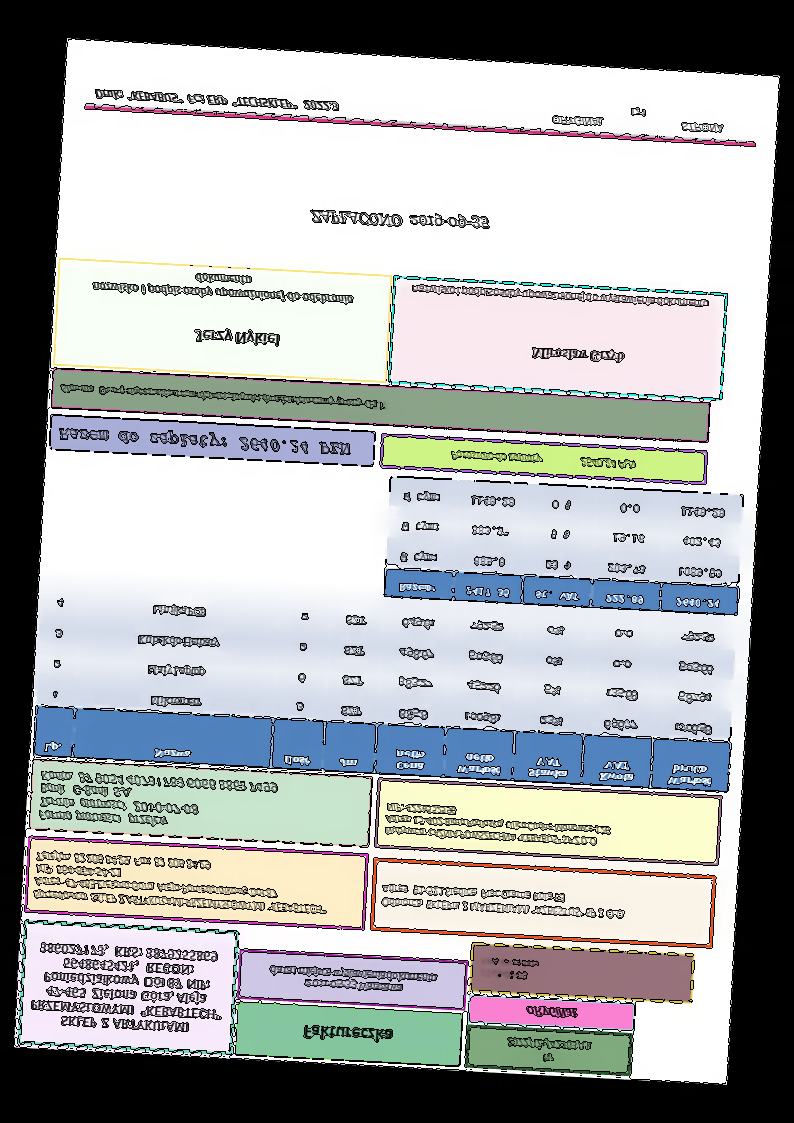Table: (31, 584, 739, 794), (382, 476, 745, 617)
TextBox: (30, 848, 329, 917), (27, 940, 227, 1038), (35, 768, 279, 834), (382, 801, 612, 850), (58, 379, 391, 412), (379, 882, 628, 923), (56, 425, 352, 459), (93, 87, 340, 115), (266, 963, 440, 999), (549, 102, 726, 135), (307, 205, 491, 234), (448, 448, 637, 472), (504, 1034, 595, 1068), (300, 1022, 394, 1046), (191, 326, 282, 349), (477, 954, 543, 983), (530, 345, 625, 365), (523, 1004, 582, 1022)
